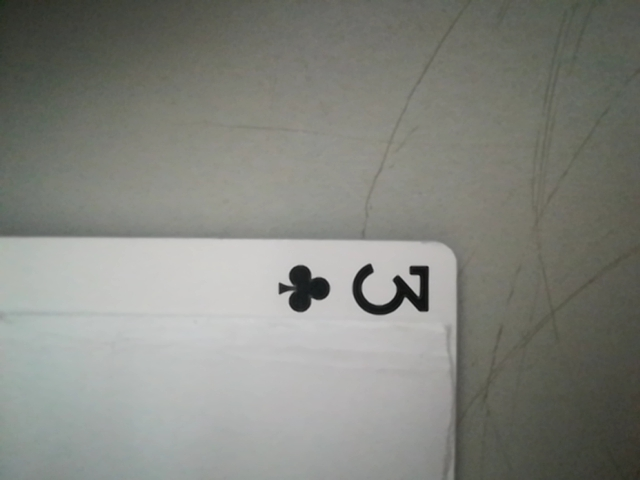mh 3: (268, 250, 440, 326)
